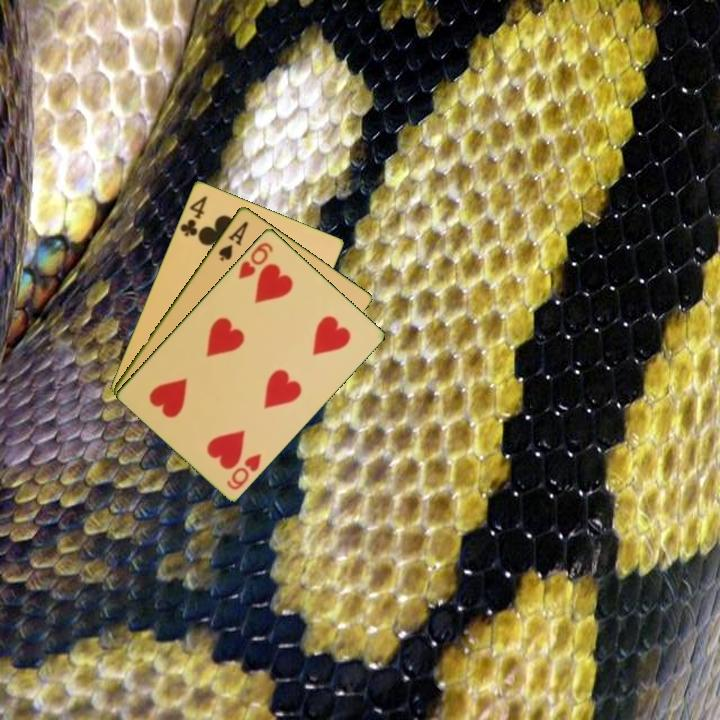4c: (176, 192, 210, 239)
6h: (223, 449, 265, 493), (235, 238, 276, 282)
As: (214, 217, 251, 264)
